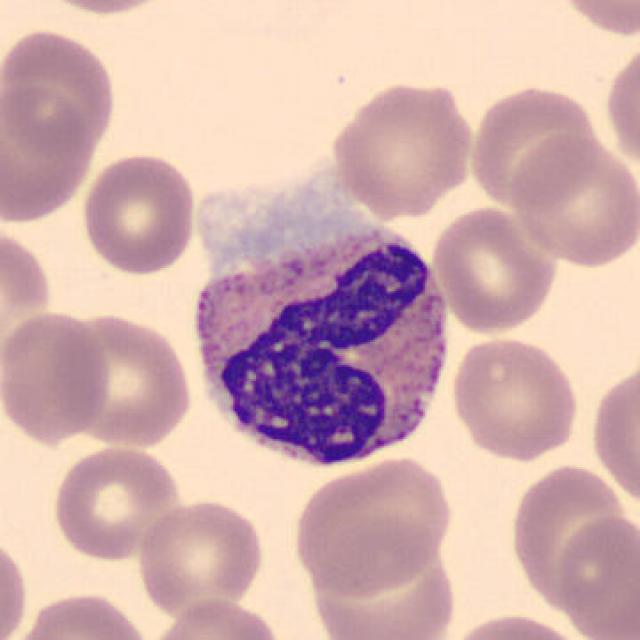Neutrophil: (183, 188, 459, 484)
RBC: (288, 453, 457, 593), (327, 78, 478, 218), (62, 308, 196, 452), (505, 460, 631, 612), (464, 81, 603, 212), (508, 132, 638, 272), (446, 333, 582, 464), (428, 203, 560, 337), (304, 530, 462, 640), (132, 496, 266, 620), (48, 441, 185, 562), (0, 25, 121, 155), (78, 148, 199, 277), (0, 307, 112, 446), (0, 79, 96, 226), (553, 510, 638, 638), (0, 234, 55, 375), (588, 358, 638, 513), (11, 587, 153, 640), (146, 596, 284, 640), (603, 39, 638, 174), (439, 610, 592, 640), (550, 0, 638, 39), (0, 530, 30, 640), (29, 0, 180, 18)
